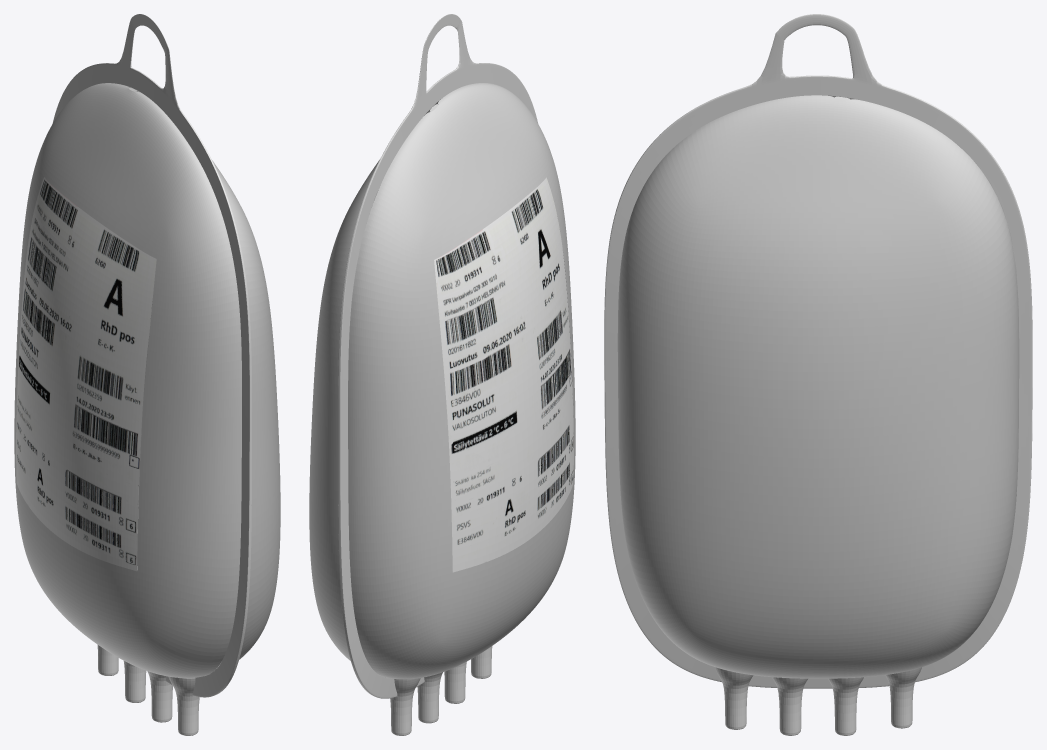
Rendered from blood bag unity.fbx.
3 renders of one model, left to right at view 1: azimuth 30°, elevation 25°; view 2: azimuth 150°, elevation 25°; view 3: azimuth 270°, elevation 25°, orthographic. The views are drawn at different scales.
Parts seen in each view (by area): view 1: Cube.001, Cube.002, Cube; view 2: Cube.001, Cube.002, Cube; view 3: Cube.001, Cube.
Boxes of the visible parts, x1=… form: Cube.001: x1=14, y1=83, x2=280, y2=693; Cube.002: x1=16, y1=177, x2=156, y2=571; Cube: x1=52, y1=14, x2=251, y2=735; Cube.001: x1=309, y1=83, x2=575, y2=693; Cube.002: x1=434, y1=177, x2=573, y2=572; Cube: x1=338, y1=14, x2=537, y2=735; Cube.001: x1=617, y1=95, x2=1019, y2=687; Cube: x1=604, y1=14, x2=1032, y2=735.
Bounding box in the file's own units: 32.41 × 120 × 65.11.
3 materials, 1 textured.
